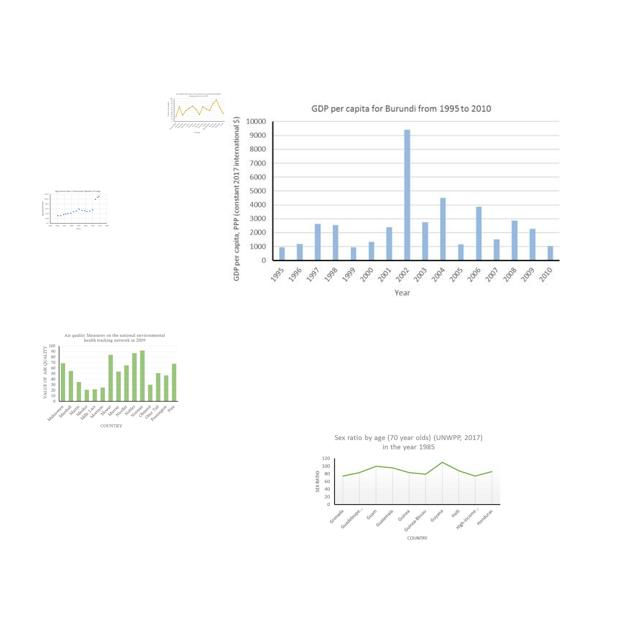Graph: (229, 100, 565, 299), (310, 430, 504, 544), (40, 330, 181, 430), (40, 188, 110, 230), (166, 92, 226, 134)
